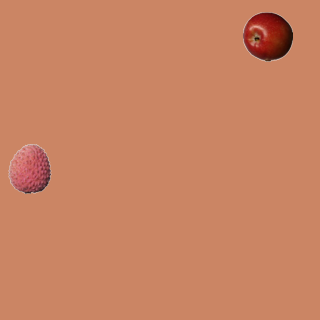Apple Braeburn: (242, 11, 292, 61)
Lychee: (4, 143, 54, 193)
